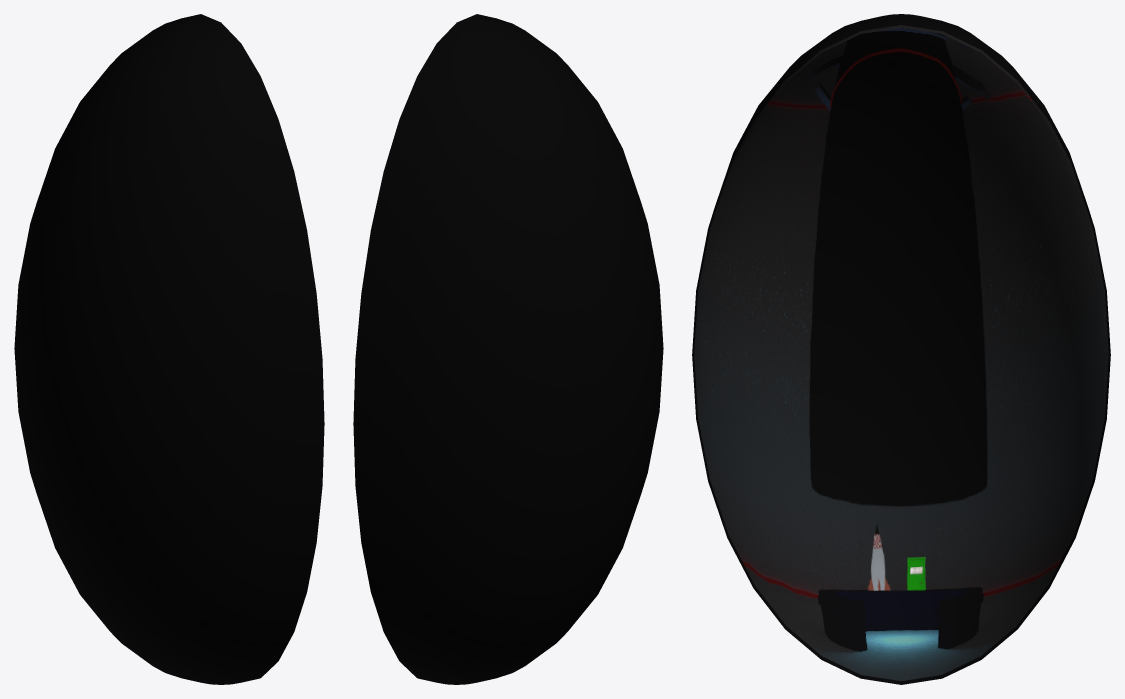
Rendered from Portal.obj.
The picture shows the model from 3 angles, left to right: view 1: azimuth 30°, elevation 25°; view 2: azimuth 150°, elevation 25°; view 3: azimuth 270°, elevation 25°; orthographic projection.
Parts seen in each view (by area): view 1: Sphere.001_Sphere.002; view 2: Sphere.001_Sphere.002; view 3: Sphere_Sphere.001, Sphere.001_Sphere.002.
Part boxes in pixels (x1,y1,x2,y2): Sphere.001_Sphere.002: [14, 14, 324, 684]; Sphere.001_Sphere.002: [353, 14, 663, 684]; Sphere_Sphere.001: [694, 25, 1108, 681]; Sphere.001_Sphere.002: [692, 14, 1110, 684].
Size of the model in its own units: 1.16 by 4.04 by 2.32.
Materials: 2 (1 with a texture image).
